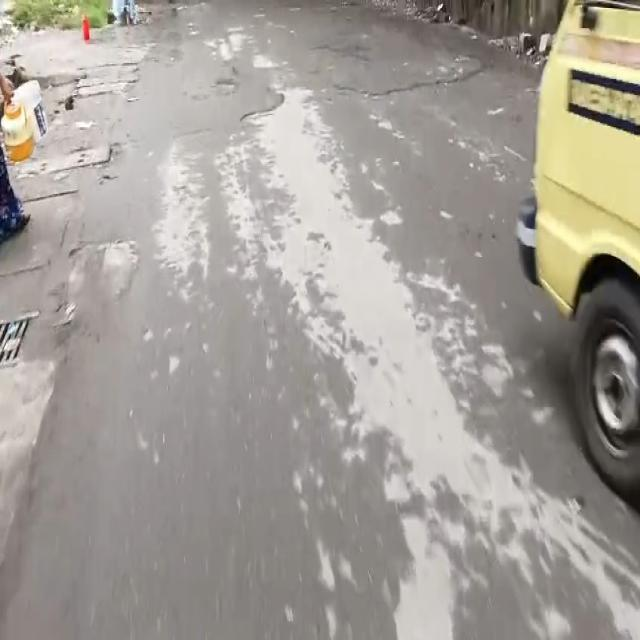road-pothole: (243, 72, 343, 151), (212, 66, 243, 99)
